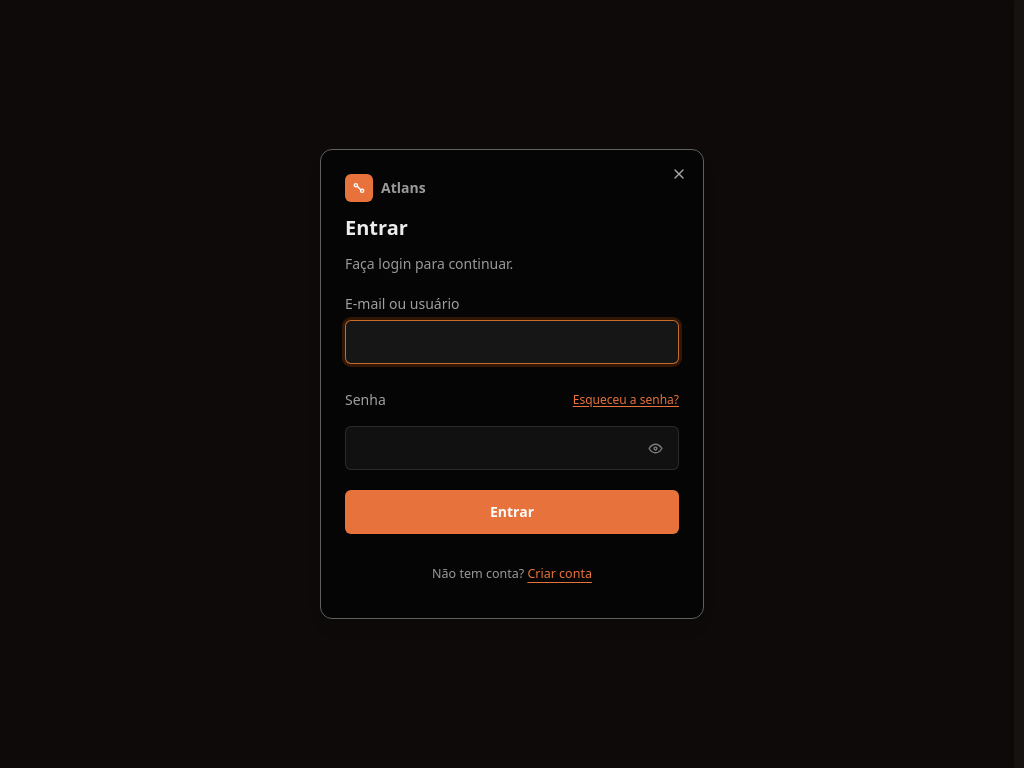
Test: ModalDeEntrada — o caminho da senha › 'Esqueceu a senha?' troca de painel, sem navegar
This screenshot has width=1024, height=768.
Click the button "Esqueceu a senha?": x=626, y=400 [573,380,679,420]
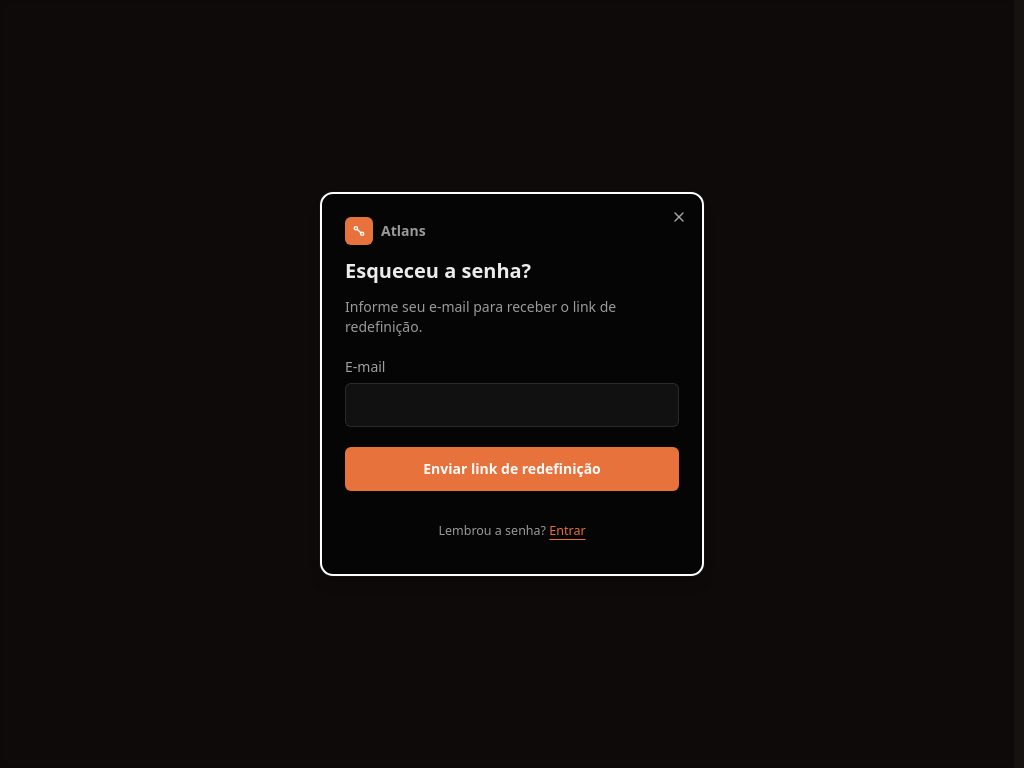
Now the heading "Esqueceu a senha?" is shown, box [345,257,531,284]
